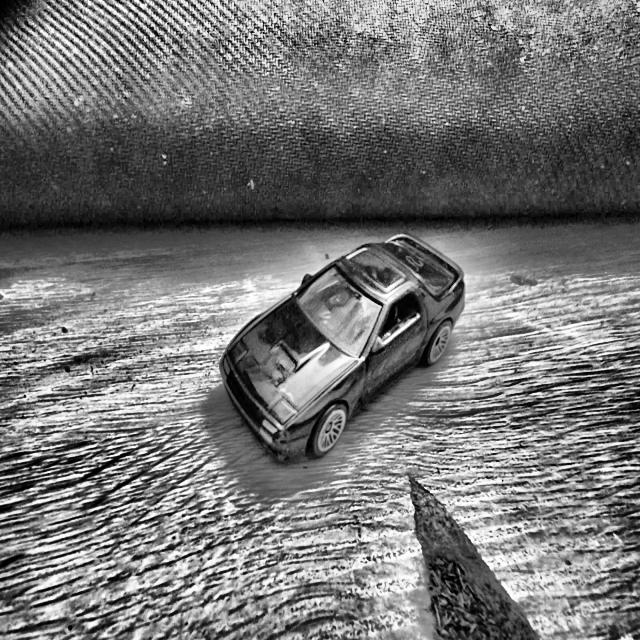car: (219, 231, 465, 462)
